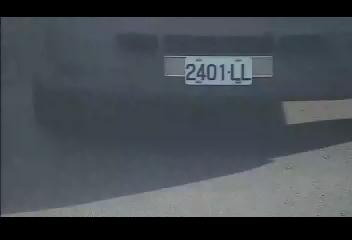plate: (183, 55, 254, 87)
